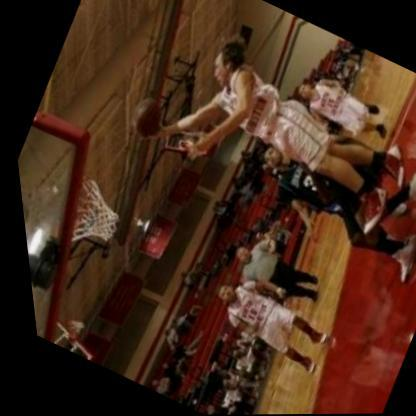basketball: (120, 92, 173, 141)
